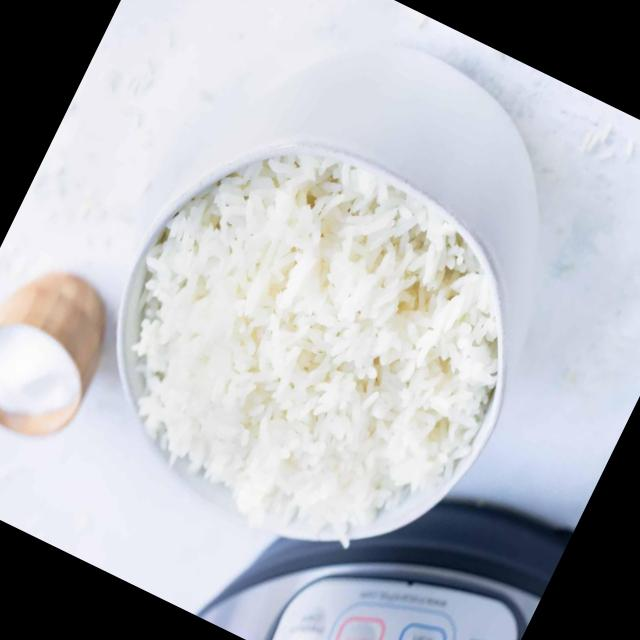rice: (127, 155, 489, 527)
